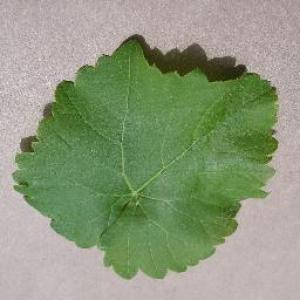Folha: (10, 33, 279, 280)
